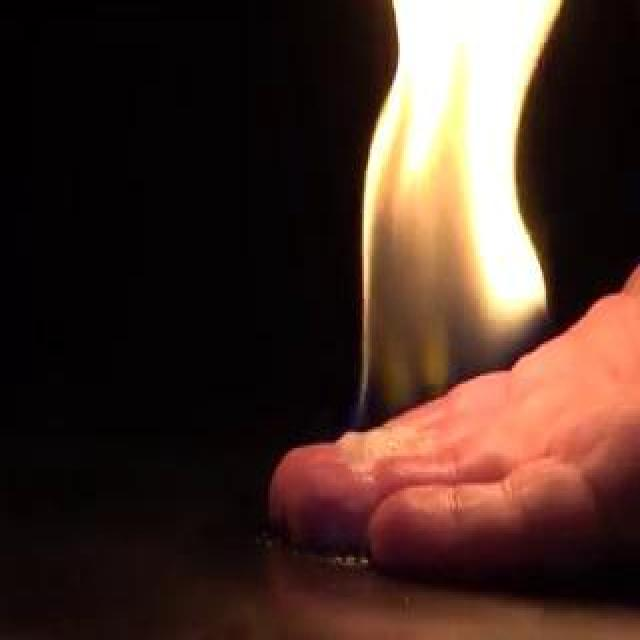Fire: (352, 75, 506, 429)
